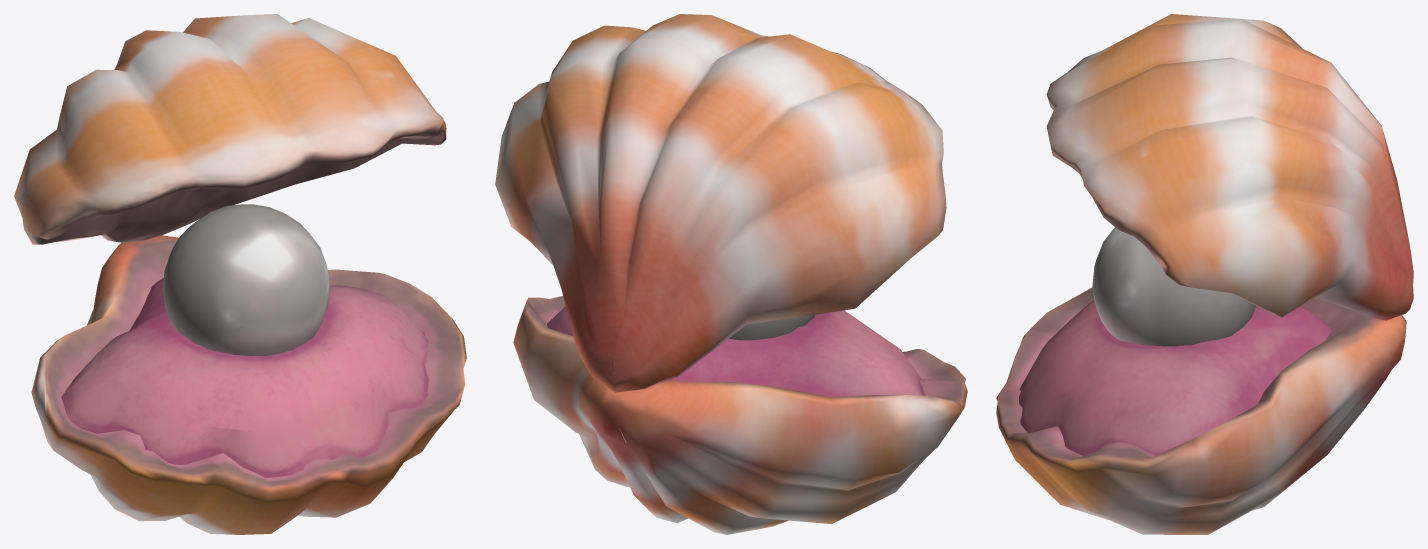
The model's file is stylizedOyster.fbx.
The picture shows the model from 3 angles, left to right: view 1: azimuth 30°, elevation 25°; view 2: azimuth 150°, elevation 25°; view 3: azimuth 270°, elevation 25°; orthographic projection. The views are drawn at different scales.
Visible parts, largest first — view 1: stylizedOyster, Pearl; view 2: stylizedOyster, Pearl; view 3: stylizedOyster, Pearl.
Boxes of the visible parts, bbox=[...] form: stylizedOyster: bbox=[14, 14, 466, 534]; Pearl: bbox=[162, 204, 330, 356]; stylizedOyster: bbox=[495, 14, 967, 534]; Pearl: bbox=[729, 315, 814, 340]; stylizedOyster: bbox=[996, 14, 1413, 534]; Pearl: bbox=[1092, 227, 1255, 346].
Bounding box in the file's own units: 151 × 165 × 135.
